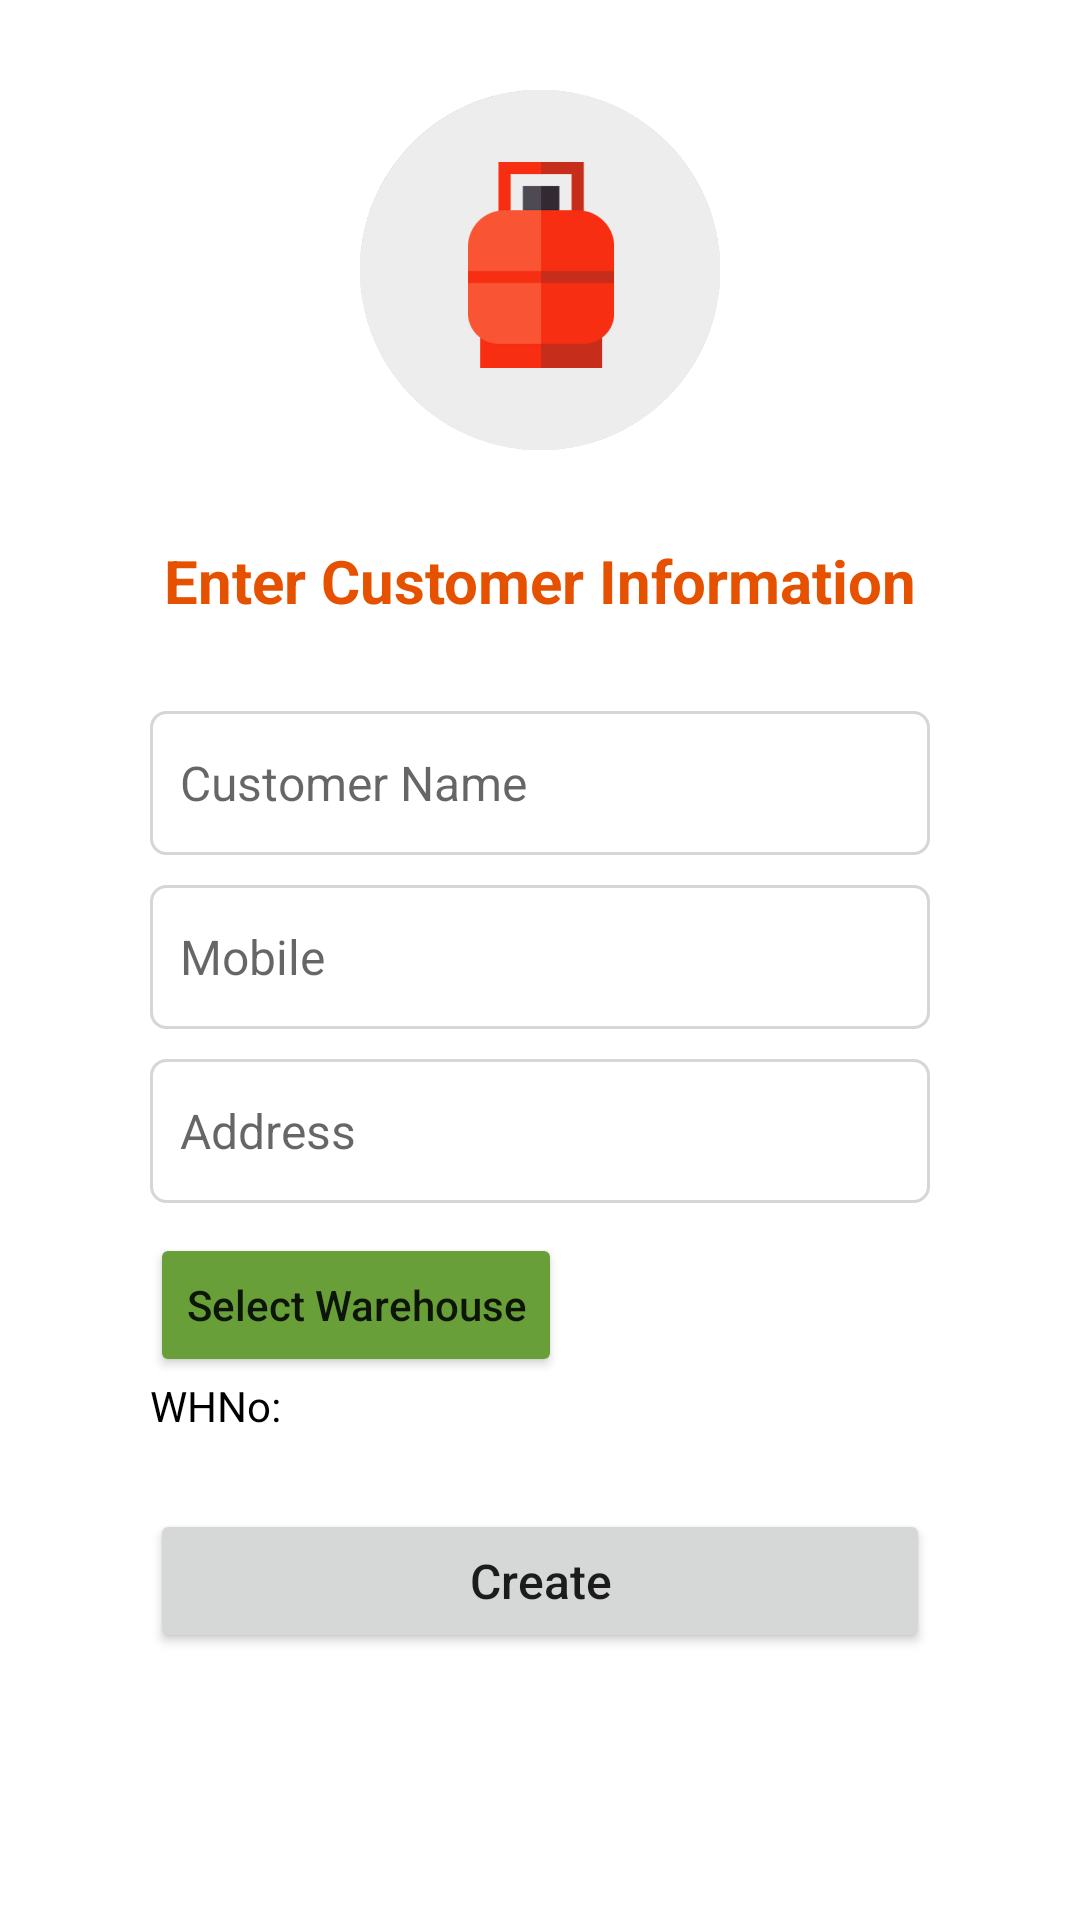

Screen size 1080w x 1920h. Icon name, then its center in pixels as [x,y]:
gasicon: [540,270]
